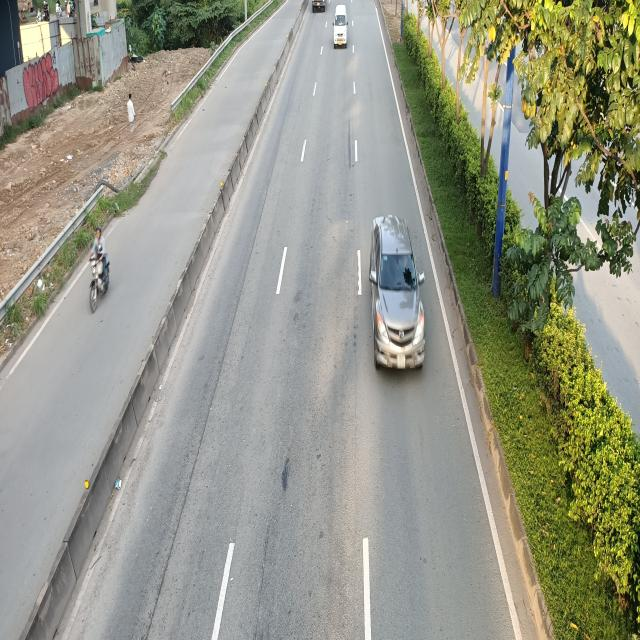car: (370, 215, 428, 372)
van: (333, 3, 349, 47)
